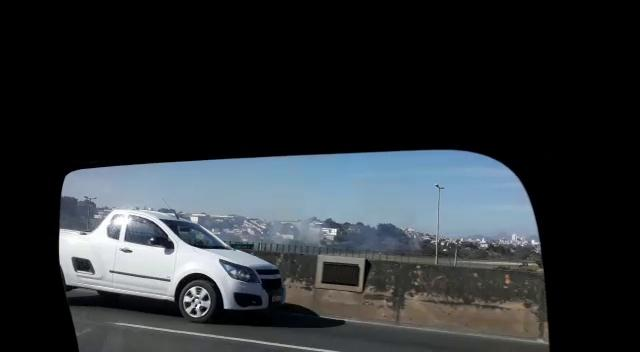smoke: (283, 227, 351, 249)
